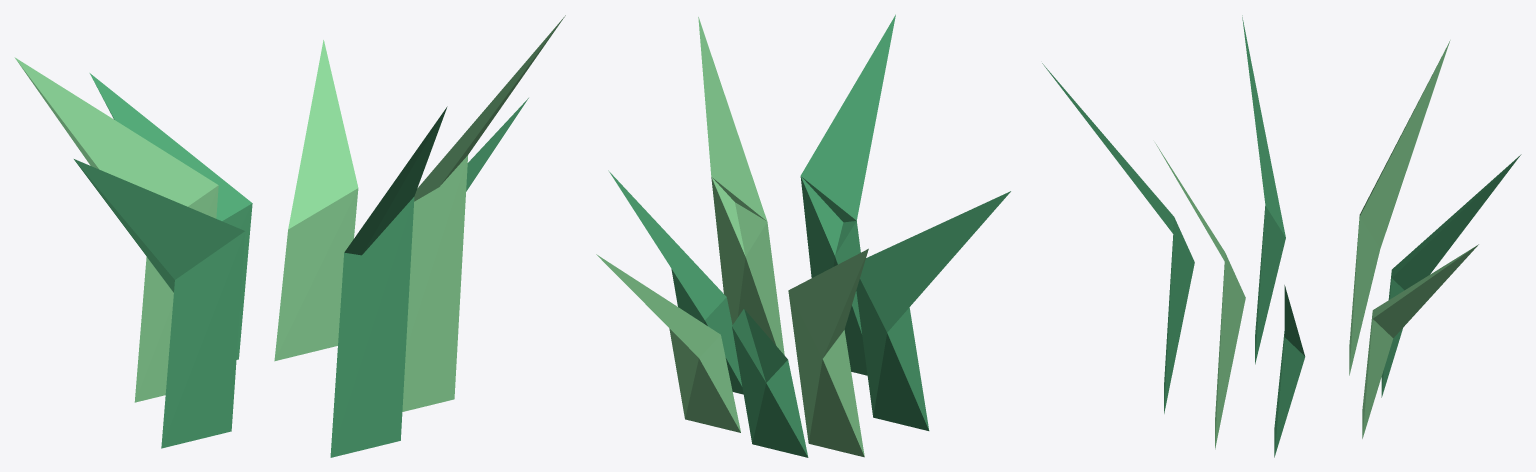
File: grass_tuft.glb
3 views of the same model, side by side, from view 1: azimuth 30°, elevation 25°; view 2: azimuth 150°, elevation 25°; view 3: azimuth 270°, elevation 25° (orthographic). The views are drawn at different scales.
Visible parts, largest first — view 1: grass_tuft__Blade.004, grass_tuft__Blade.002, grass_tuft__Blade.003, grass_tuft__Blade.005, grass_tuft__Blade.001, grass_tuft__Blade.006, grass_tuft__Blade; view 2: grass_tuft__Blade.004, grass_tuft__Blade.002, grass_tuft__Blade.005, grass_tuft__Blade.001, grass_tuft__Blade.003, grass_tuft__Blade.006, grass_tuft__Blade; view 3: grass_tuft__Blade.001, grass_tuft__Blade.003, grass_tuft__Blade.002, grass_tuft__Blade.004, grass_tuft__Blade.006, grass_tuft__Blade.005, grass_tuft__Blade.
Part boxes in pixels (x1,y1,x2,y2): grass_tuft__Blade.004: (74, 159, 245, 448); grass_tuft__Blade.002: (330, 106, 447, 457); grass_tuft__Blade.003: (274, 40, 358, 361); grass_tuft__Blade.005: (402, 15, 565, 411); grass_tuft__Blade.001: (14, 57, 218, 402); grass_tuft__Blade.006: (89, 73, 252, 359); grass_tuft__Blade: (466, 98, 528, 191); grass_tuft__Blade.004: (856, 191, 1010, 430); grass_tuft__Blade.002: (800, 14, 895, 375); grass_tuft__Blade.005: (698, 17, 784, 354); grass_tuft__Blade.001: (788, 248, 868, 457); grass_tuft__Blade.003: (596, 254, 740, 432); grass_tuft__Blade.006: (732, 309, 808, 457); grass_tuft__Blade: (608, 170, 743, 394); grass_tuft__Blade.001: (1349, 40, 1450, 375); grass_tuft__Blade.003: (1362, 244, 1478, 438); grass_tuft__Blade.002: (1042, 63, 1194, 413); grass_tuft__Blade.004: (1242, 15, 1285, 364); grass_tuft__Blade.006: (1381, 154, 1521, 397); grass_tuft__Blade.005: (1155, 143, 1245, 449); grass_tuft__Blade: (1274, 285, 1305, 457).
Bounding box in the file's own units: 0.1231 × 0.096 × 0.1216.
